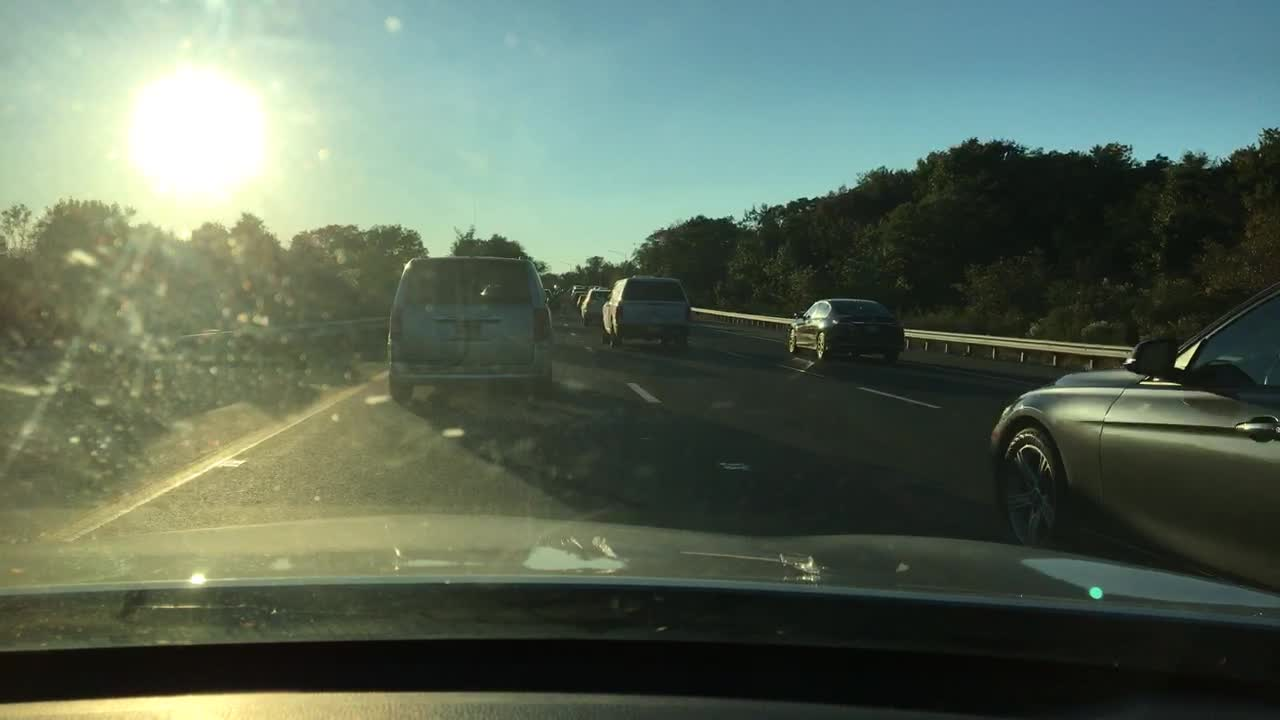car: (987, 279, 1278, 590), (385, 255, 558, 406), (785, 297, 908, 363), (598, 272, 694, 349), (580, 287, 610, 328), (538, 288, 558, 306), (570, 289, 586, 302), (574, 293, 583, 309)
